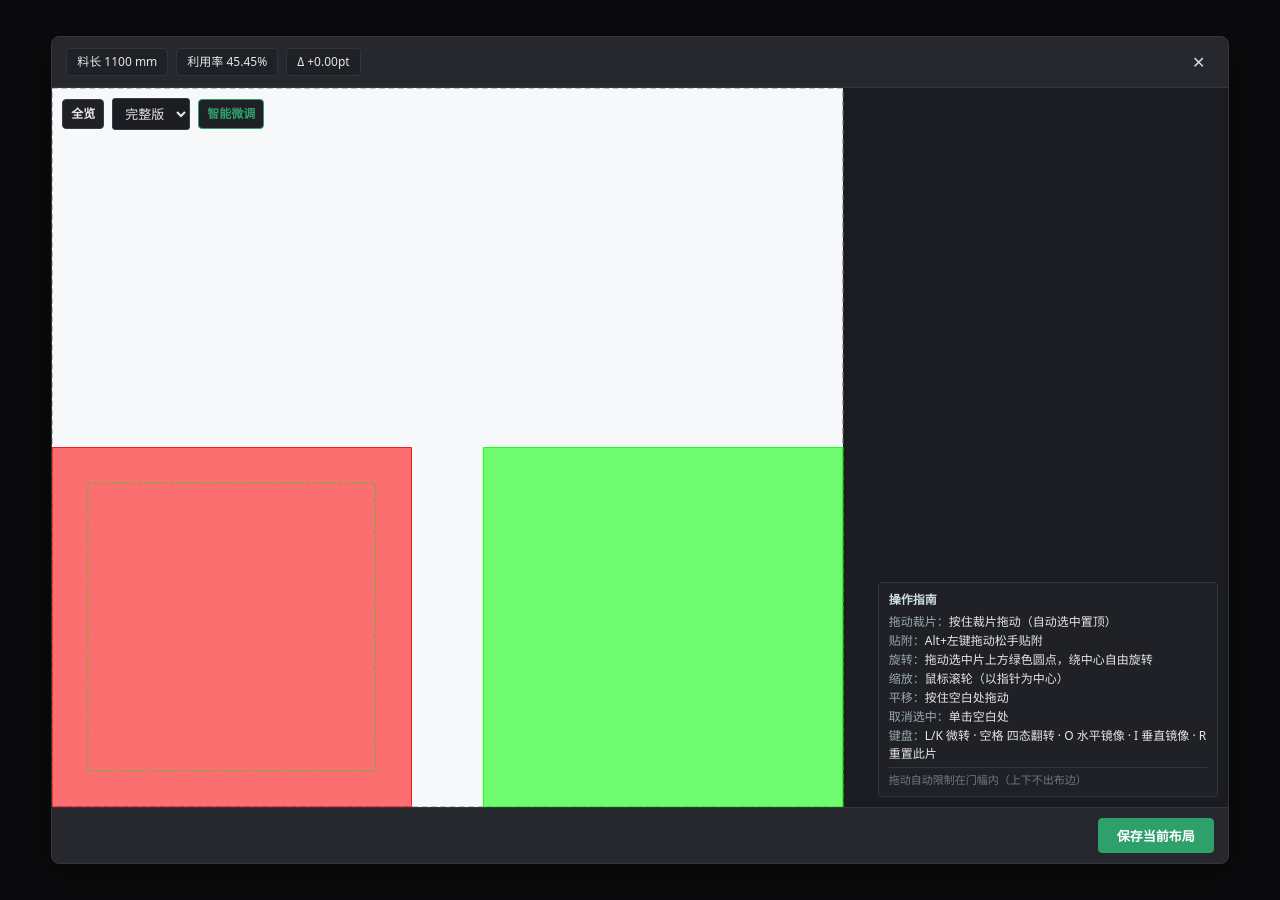
Scenario: EditLayoutModal 智能微调 (edit-polish US-003) › 2026-10-06 已收敛响应（moves 空）→ 卡内友好提示、六指标行不渲染、撤销/compact 保留
Click the button with test id "edit-polish-btn" at (231, 114), box [198,99,264,129]
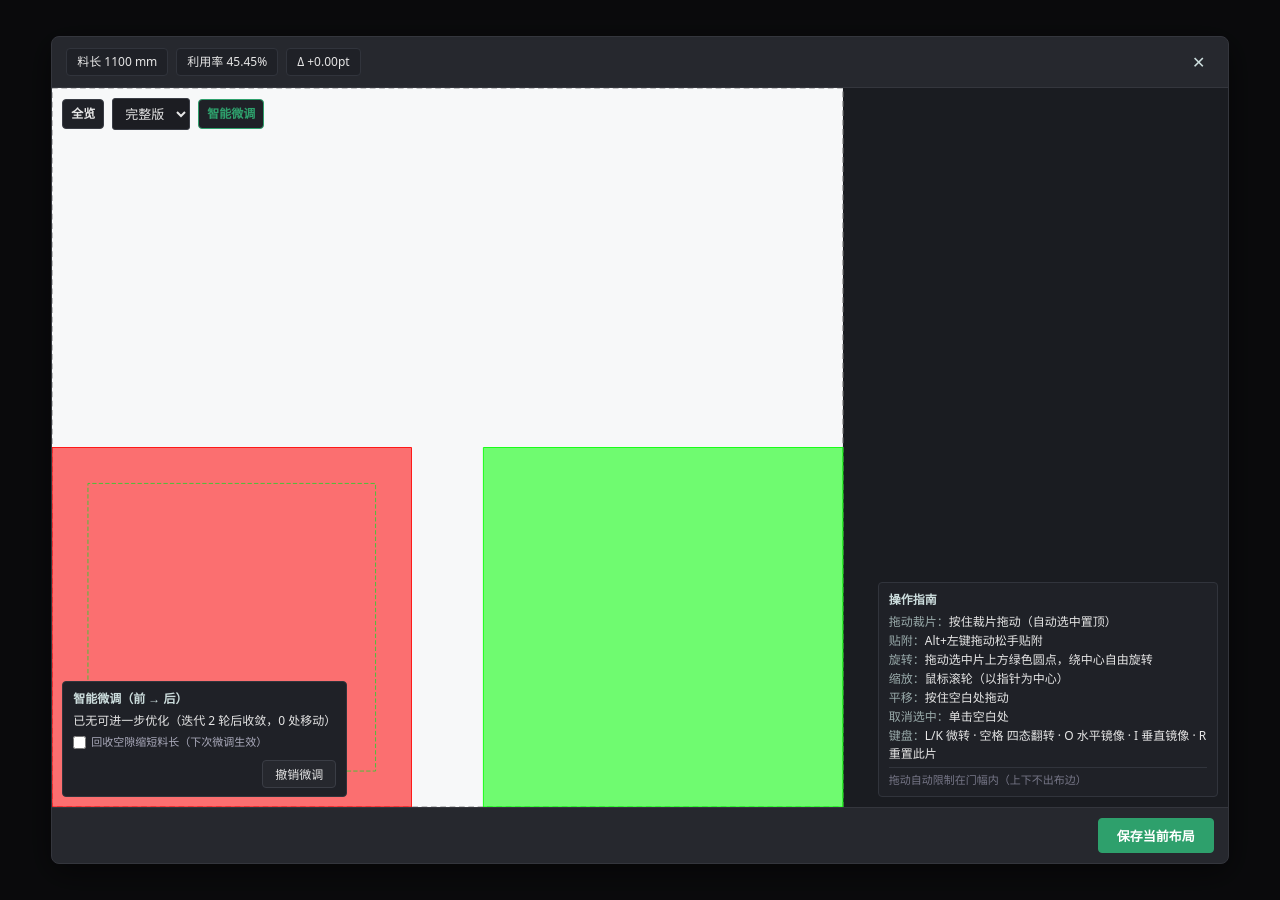
Result: the text with test id "edit-polish-converged" shows "已无可进一步优化" at [73,712,208,729]
Result: the text with test id "edit-polish-converged" shows "2 轮" at [73,712,336,730]
Result: the checkbox with test id "edit-polish-compact" is shown at [73,736,86,749]
